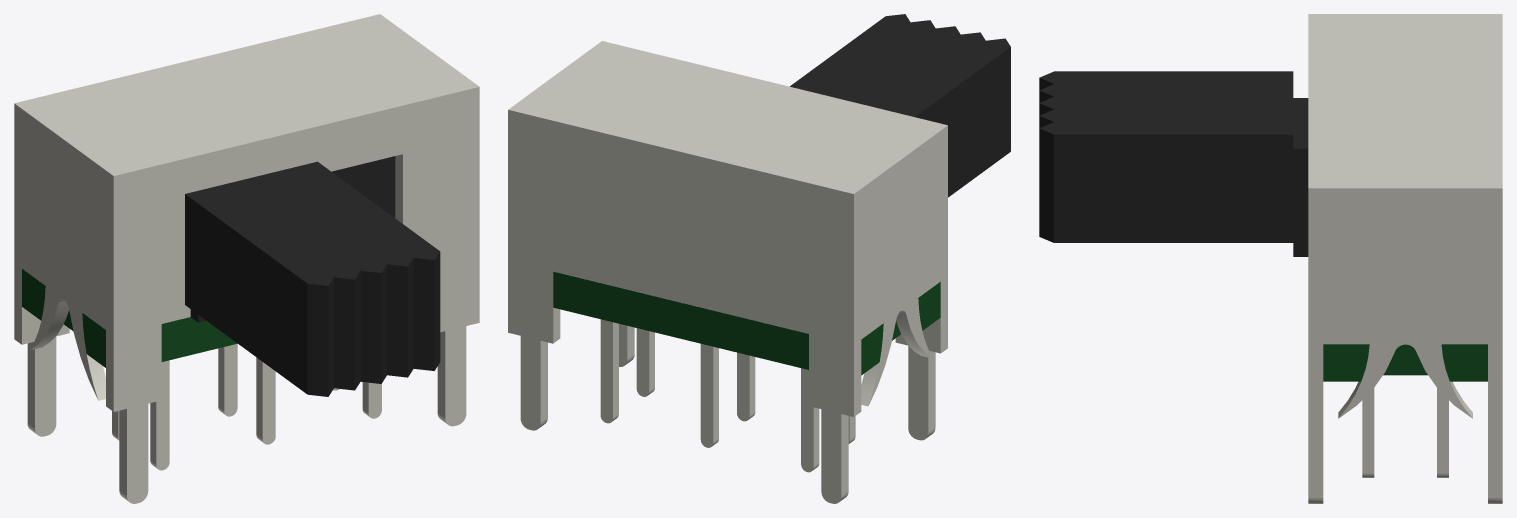
The model's file is kc-sw_e-switch_eg2219_dpdt_angled.glb.
The picture shows the model from 3 angles, left to right: view 1: azimuth 30°, elevation 25°; view 2: azimuth 150°, elevation 25°; view 3: azimuth 270°, elevation 25°; orthographic projection. The views are drawn at different scales.
Visible parts, largest first — view 1: 0.6666666666666666_0.6666666666666666_0.5833333333333334_0.8, 0_0_0_0, 0_0.08333333333333333_0_0; view 2: 0.6666666666666666_0.6666666666666666_0.5833333333333334_0.8, 0_0_0_0, 0_0.08333333333333333_0_0; view 3: 0.6666666666666666_0.6666666666666666_0.5833333333333334_0.8, 0_0_0_0, 0_0.08333333333333333_0_0.
Part boxes in pixels (x1,y1,x2,y2): 0.6666666666666666_0.6666666666666666_0.5833333333333334_0.8: (14,14,479,503); 0_0_0_0: (185,156,440,396); 0_0.08333333333333333_0_0: (22,269,237,367); 0.6666666666666666_0.6666666666666666_0.5833333333333334_0.8: (508,41,947,503); 0_0_0_0: (790,14,1010,197); 0_0.08333333333333333_0_0: (553,271,940,375); 0.6666666666666666_0.6666666666666666_0.5833333333333334_0.8: (1308,14,1502,503); 0_0_0_0: (1039,71,1308,256); 0_0.08333333333333333_0_0: (1323,344,1487,381).
Bounding box in the file's own units: 1.38 × 1.2 × 1.55.
